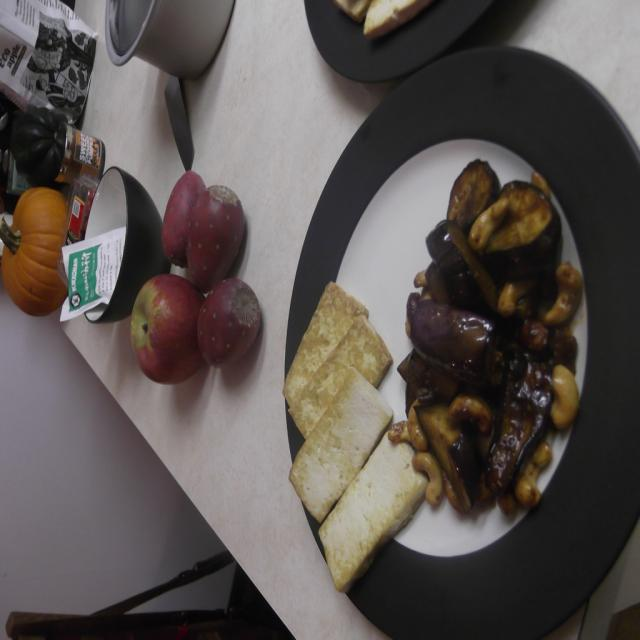Healty Apple: (130, 274, 206, 384)
